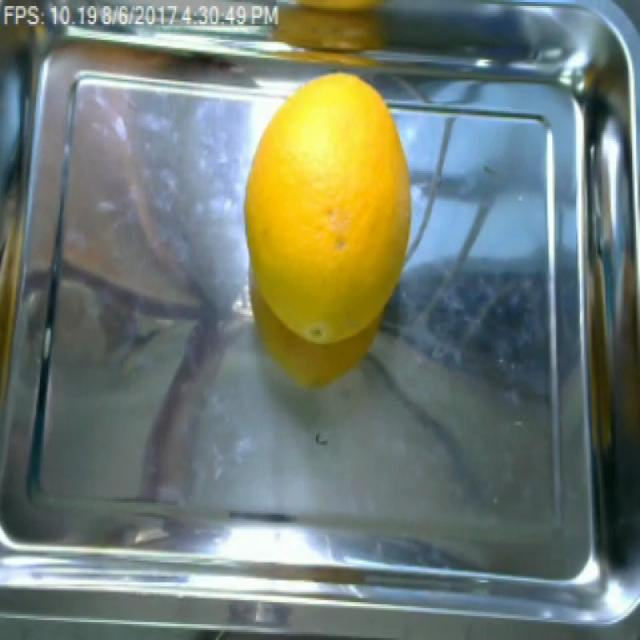Fruit: (231, 63, 416, 390), (256, 0, 412, 40)
